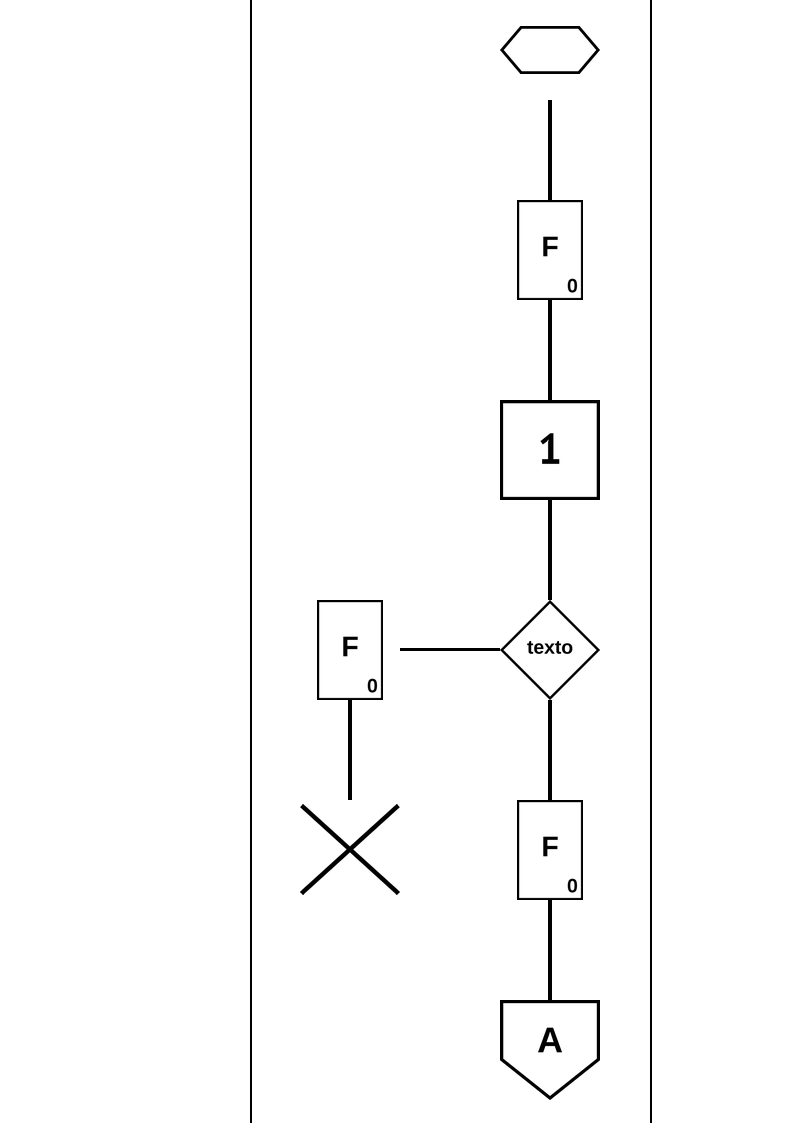conector_comienzoCorte: (500, 1000, 600, 1100)
control: (500, 400, 600, 500)
decision: (500, 600, 600, 700)
destruccion: (300, 804, 400, 895)
documento: (517, 200, 583, 300), (517, 800, 583, 900), (317, 600, 383, 700)
proceso: (500, 26, 600, 74)
trasladoDeInformacion_horizontal: (400, 628, 500, 671)
trasladoDeInformacion_vertical: (528, 100, 572, 200), (528, 300, 572, 400), (528, 500, 572, 600), (528, 700, 572, 800), (528, 900, 572, 1000), (328, 700, 372, 800)
